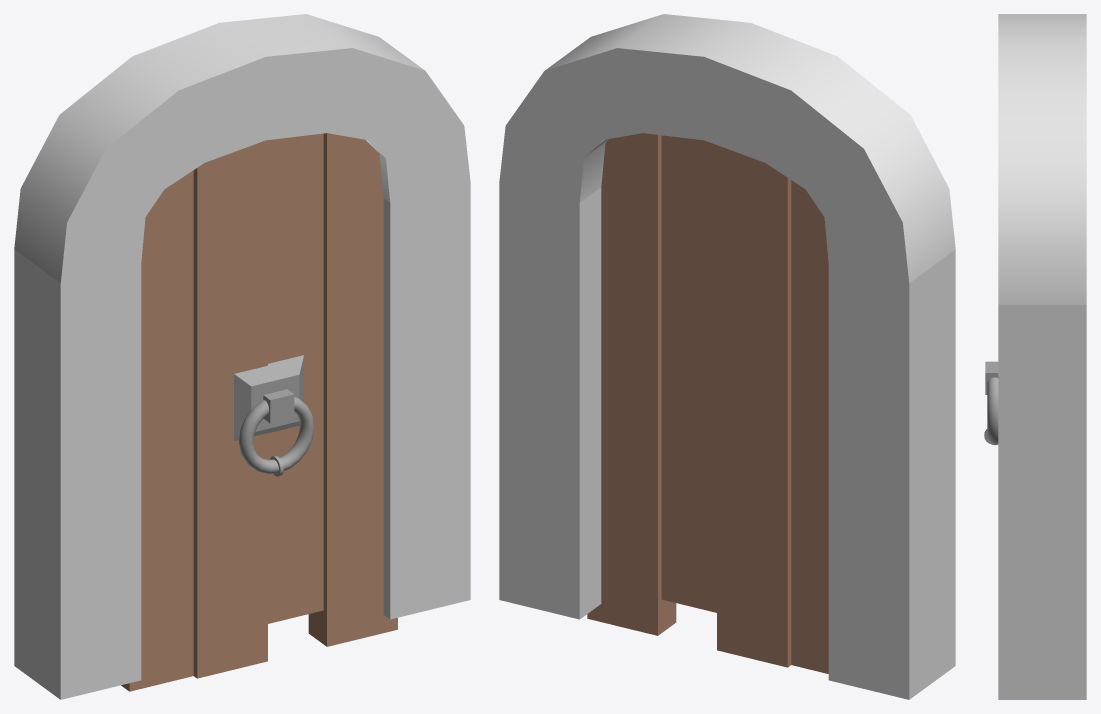
Rendered from BossDoor.fbx.
3 renders of one model, left to right at view 1: azimuth 30°, elevation 25°; view 2: azimuth 150°, elevation 25°; view 3: azimuth 270°, elevation 25°, orthographic. The views are drawn at different scales.
Parts seen in each view (by area): view 1: BossDoor; view 2: BossDoor; view 3: BossDoor.
Part boxes in pixels (<box>): BossDoor: <box>14,14,470,699</box>; BossDoor: <box>499,14,955,699</box>; BossDoor: <box>984,14,1086,699</box>.
Size of the model in its own units: 442 by 630 by 101.
